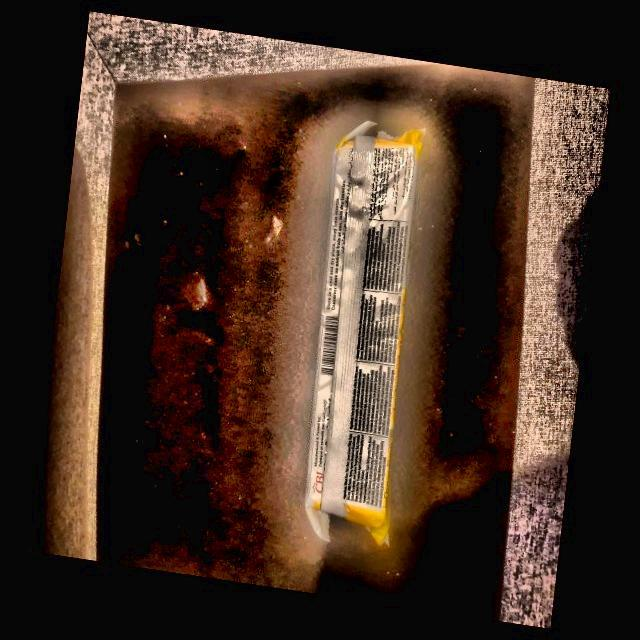lemon puff: (300, 119, 416, 543)
